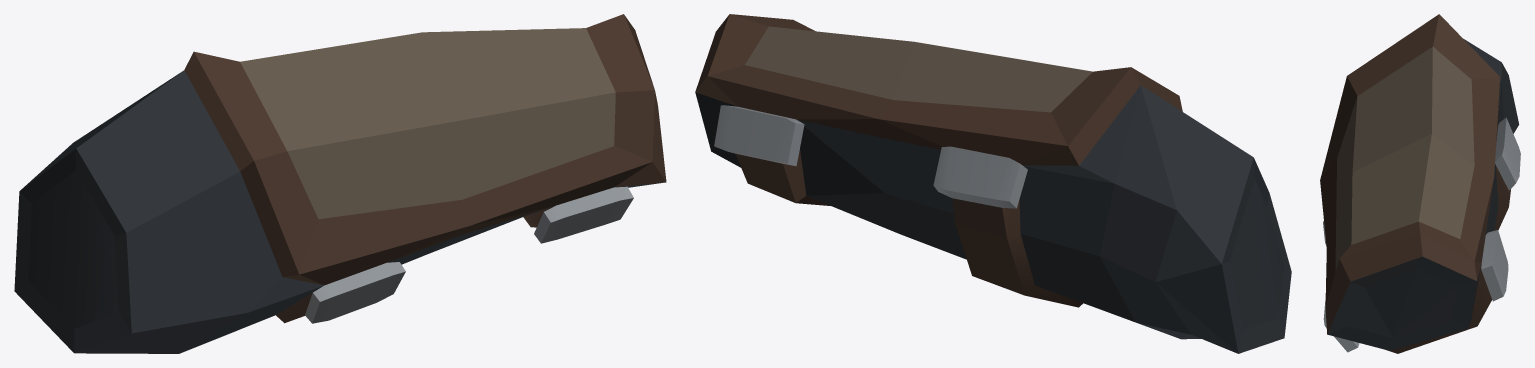
The model's file is Chr_ArmLowerLeft_Female_08_Static.fbx.
3 renders of one model, left to right at view 1: azimuth 30°, elevation 25°; view 2: azimuth 150°, elevation 25°; view 3: azimuth 270°, elevation 25°, orthographic. The views are drawn at different scales.
Parts seen in each view (by area): view 1: Chr_ArmLowerLeft_Female_08_Static; view 2: Chr_ArmLowerLeft_Female_08_Static; view 3: Chr_ArmLowerLeft_Female_08_Static.
Boxes of the visible parts, x1,y1,x2,y2 form: Chr_ArmLowerLeft_Female_08_Static: (14, 14, 666, 353); Chr_ArmLowerLeft_Female_08_Static: (695, 14, 1291, 353); Chr_ArmLowerLeft_Female_08_Static: (1320, 14, 1520, 353).
Size of the model in its own units: 0.2944 by 0.1375 by 0.1053.
